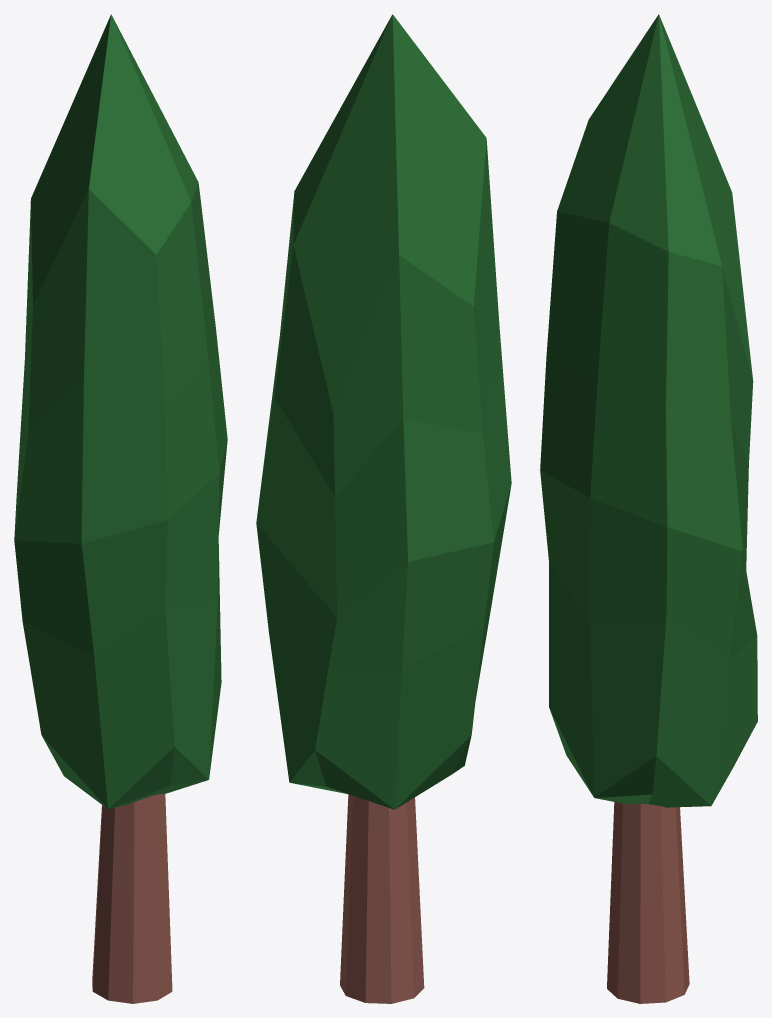
The model's file is cyprus.glb.
3 renders of one model, left to right at view 1: azimuth 30°, elevation 25°; view 2: azimuth 150°, elevation 25°; view 3: azimuth 270°, elevation 25°, orthographic.
Visible parts, largest first — view 1: cyprus leafs, cyprus trunk; view 2: cyprus leafs, cyprus trunk; view 3: cyprus leafs, cyprus trunk.
Boxes of the visible parts, x1,y1,x2,y2 form: cyprus leafs: [14, 14, 227, 809]; cyprus trunk: [92, 793, 172, 1003]; cyprus leafs: [256, 14, 511, 809]; cyprus trunk: [340, 794, 424, 1003]; cyprus leafs: [540, 14, 757, 807]; cyprus trunk: [607, 802, 689, 1003].
Size of the model in its own units: 1.27 by 5.37 by 1.1.
